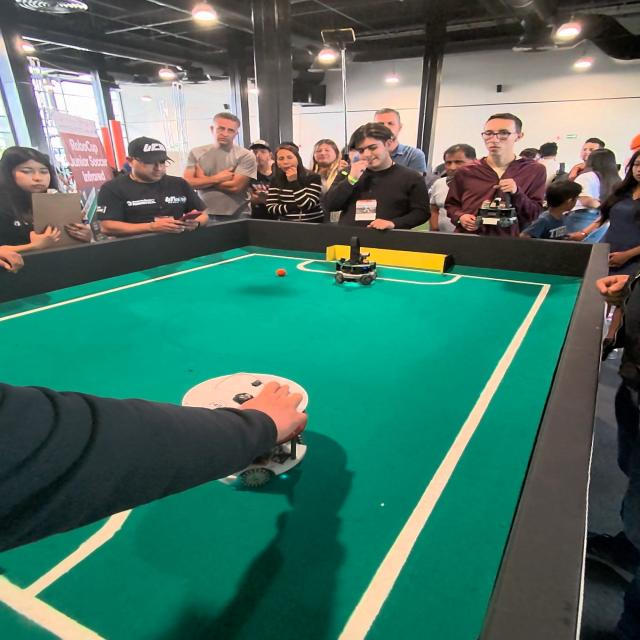Robot: (174, 366, 308, 486), (333, 237, 381, 293)
pelota: (276, 270, 287, 277)
